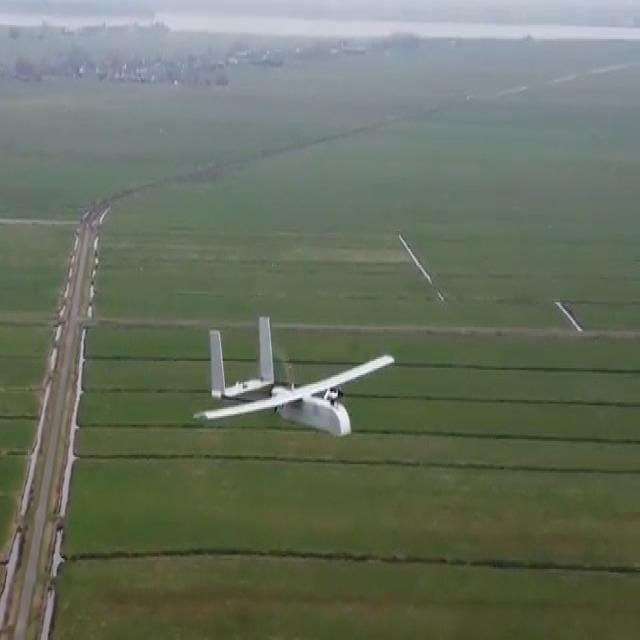drones: (195, 299, 401, 454)
